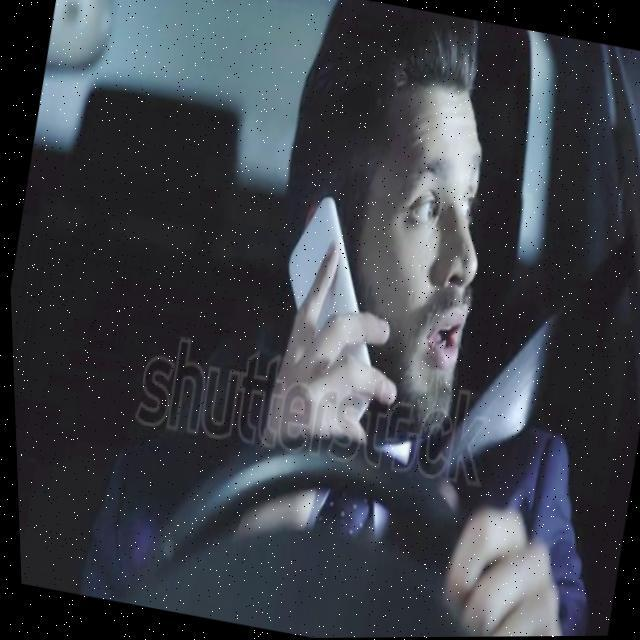PhoneCall: (252, 186, 404, 448)
